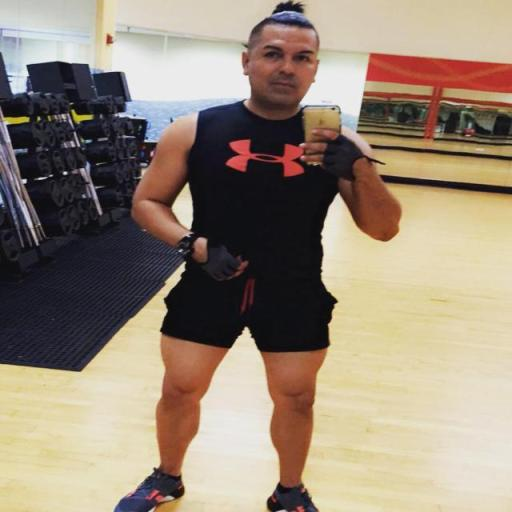Under Armour: (221, 135, 316, 180)
